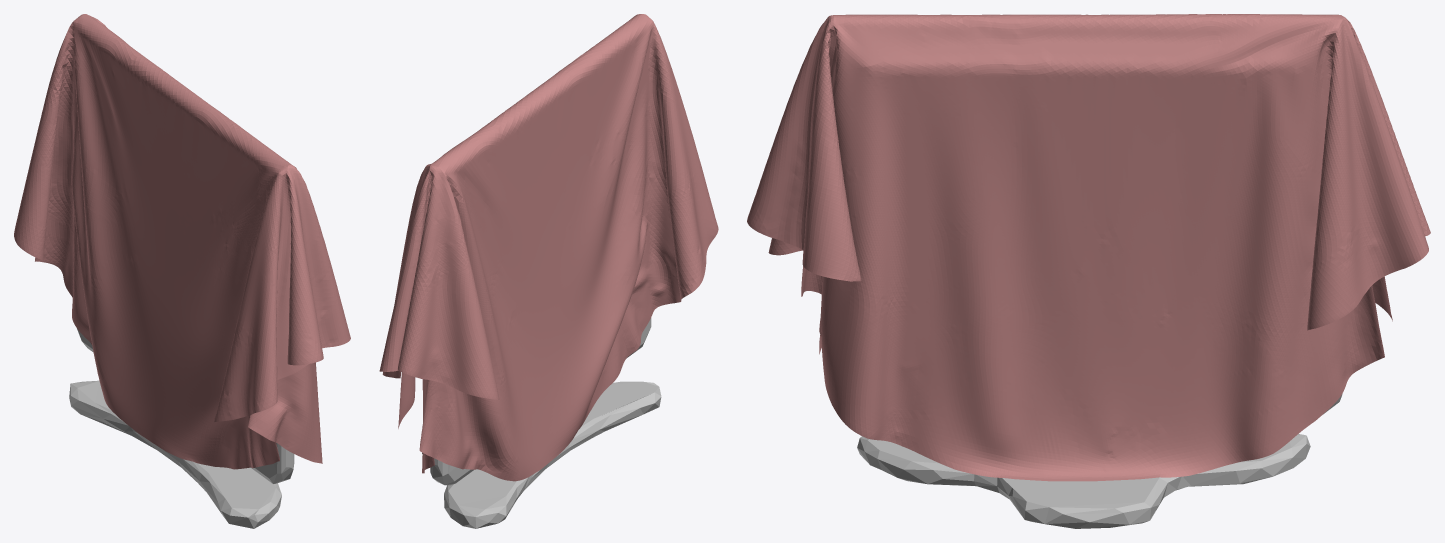
Rendered from level_4.glb.
3 renders of one model, left to right at view 1: azimuth 30°, elevation 25°; view 2: azimuth 150°, elevation 25°; view 3: azimuth 270°, elevation 25°, orthographic. The views are drawn at different scales.
Visible parts, largest first — view 1: world, object.obj; view 2: world, object.obj; view 3: world, object.obj.
Part boxes in pixels (bbox=[...]): world: bbox=[14, 14, 350, 469]; object.obj: bbox=[69, 328, 294, 528]; world: bbox=[379, 14, 718, 481]; object.obj: bbox=[422, 318, 661, 528]; world: bbox=[747, 14, 1430, 481]; object.obj: bbox=[857, 393, 1342, 528].
Bounding box in the file's own units: 0.1401 × 0.2908 × 0.3967.
